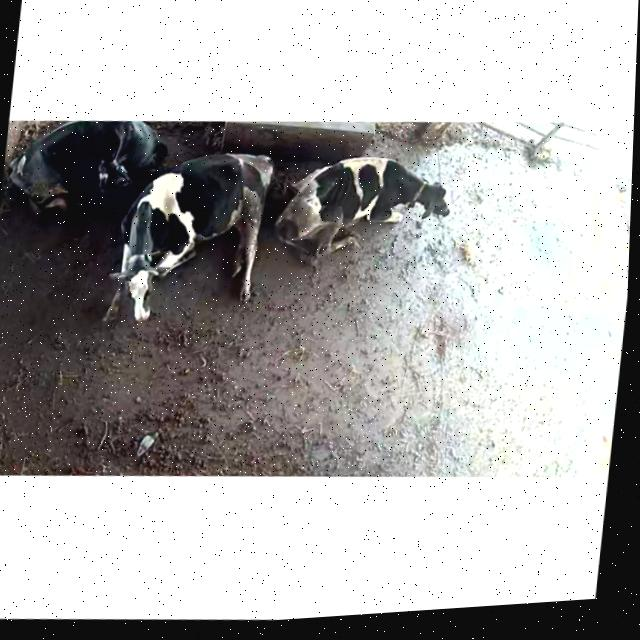lay: (100, 140, 275, 344), (274, 132, 463, 280), (1, 110, 166, 207)
